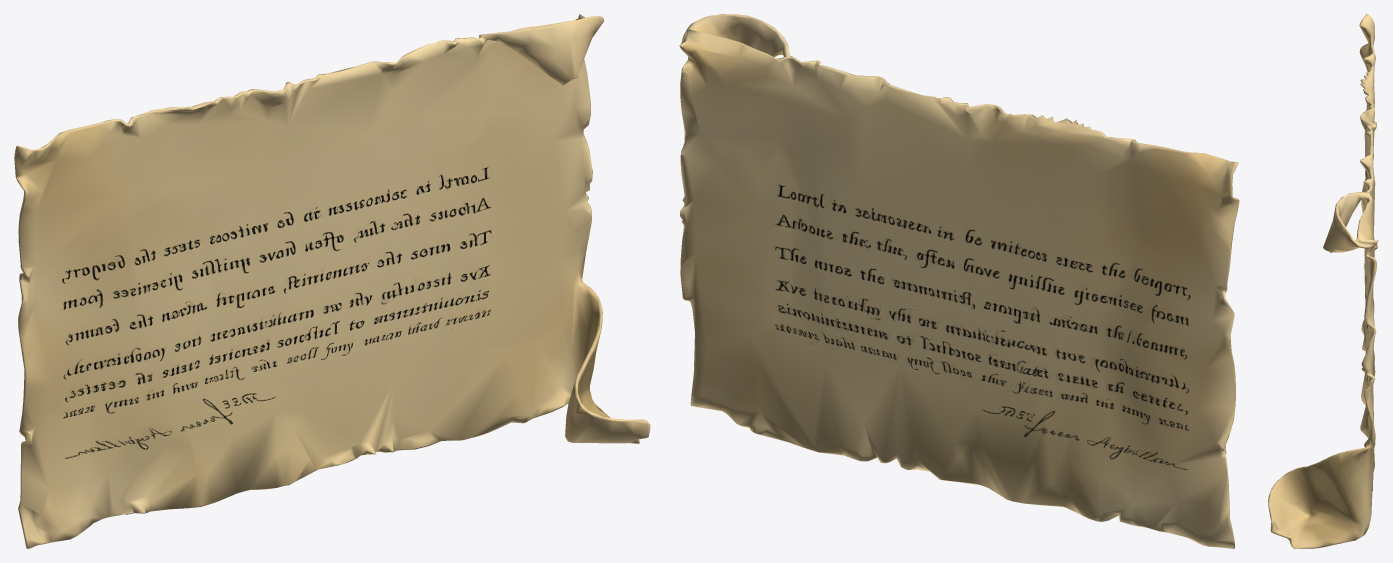
The model's file is hoja.fbx.
3 views of the same model, side by side, from view 1: azimuth 30°, elevation 25°; view 2: azimuth 150°, elevation 25°; view 3: azimuth 270°, elevation 25° (orthographic). The views are drawn at different scales.
Parts seen in each view (by area): view 1: Mesh_0; view 2: Mesh_0; view 3: Mesh_0.
Part boxes in pixels (x1=…): Mesh_0: x1=14, y1=14, x2=650, y2=548; Mesh_0: x1=679, y1=14, x2=1239, y2=548; Mesh_0: x1=1268, y1=14, x2=1378, y2=548.
Bounding box in the file's own units: 191 × 131 × 40.52.
Materials: 1 (1 with a texture image).
